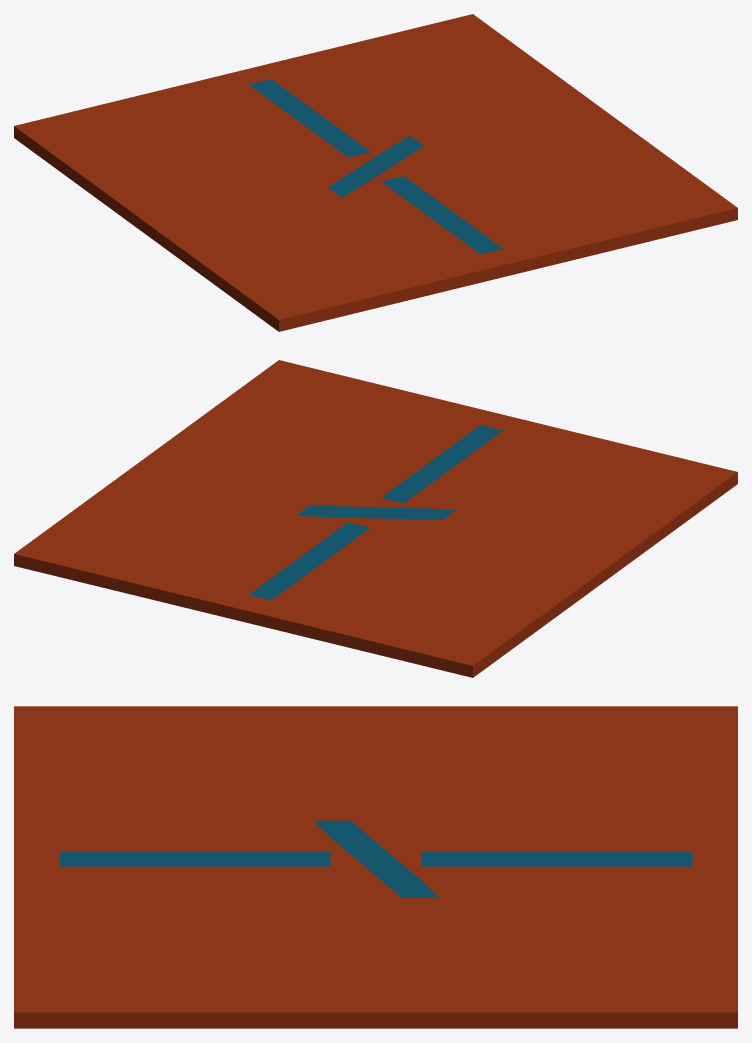
The model's file is TileS_1-1.fbx.
3 renders of one model, top to bottom at view 1: azimuth 30°, elevation 25°; view 2: azimuth 150°, elevation 25°; view 3: azimuth 270°, elevation 25°, orthographic. The views are drawn at different scales.
Parts seen in each view (by area): view 1: TileS_1-1; view 2: TileS_1-1; view 3: TileS_1-1.
Part boxes in pixels (x1,y1,x2,y2): TileS_1-1: (14,14,737,331); TileS_1-1: (14,360,737,677); TileS_1-1: (14,706,737,1028).
Size of the model in its own units: 2 by 2 by 0.051.
